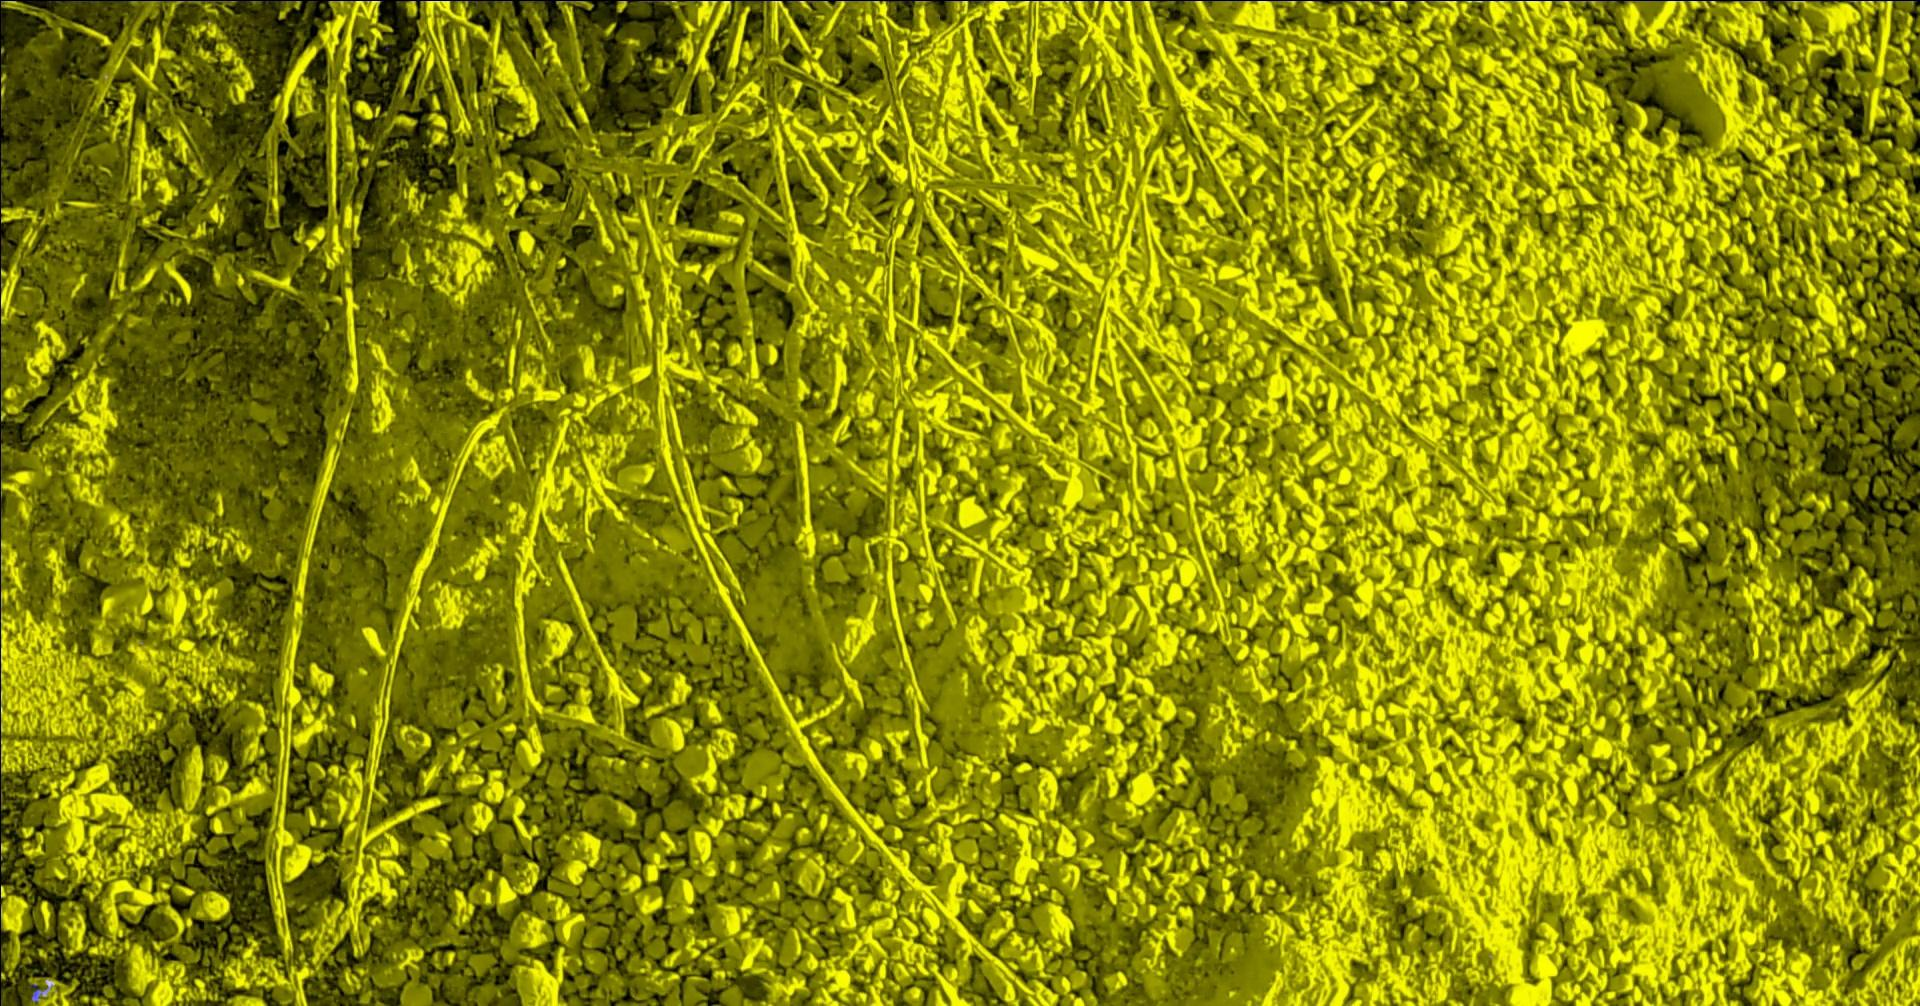ant: (29, 983, 44, 1002), (461, 0, 510, 3)
